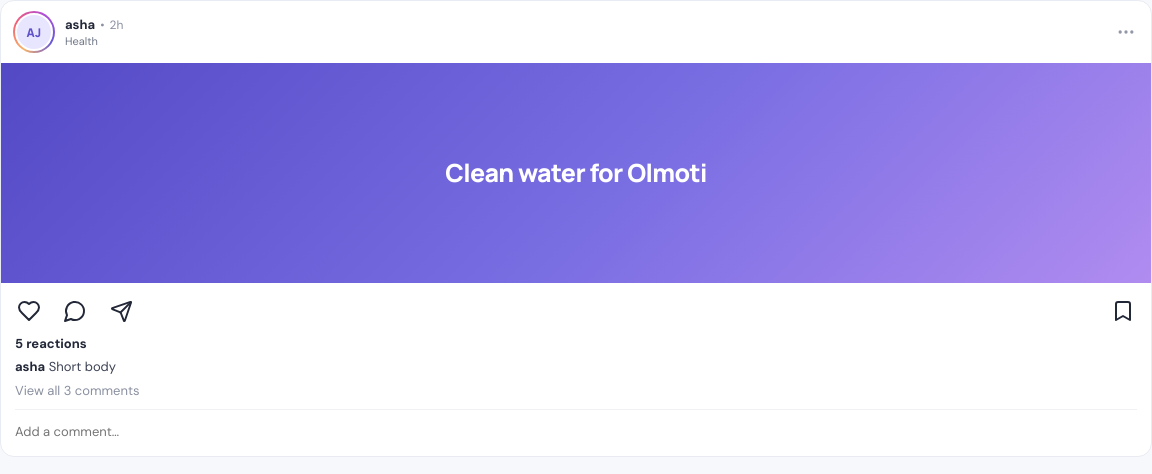
Test: FeedPost › saves with the bookmark button
Click the button named "Save" at (1123, 311), box [1103,291,1143,331]
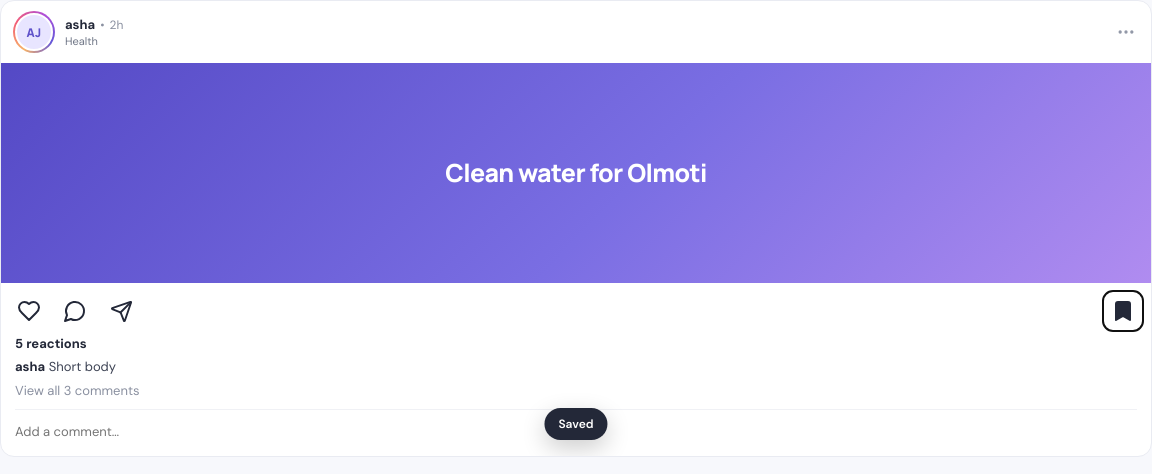
Check: the button named "Remove from saved" is shown, box [1103,291,1143,331]
